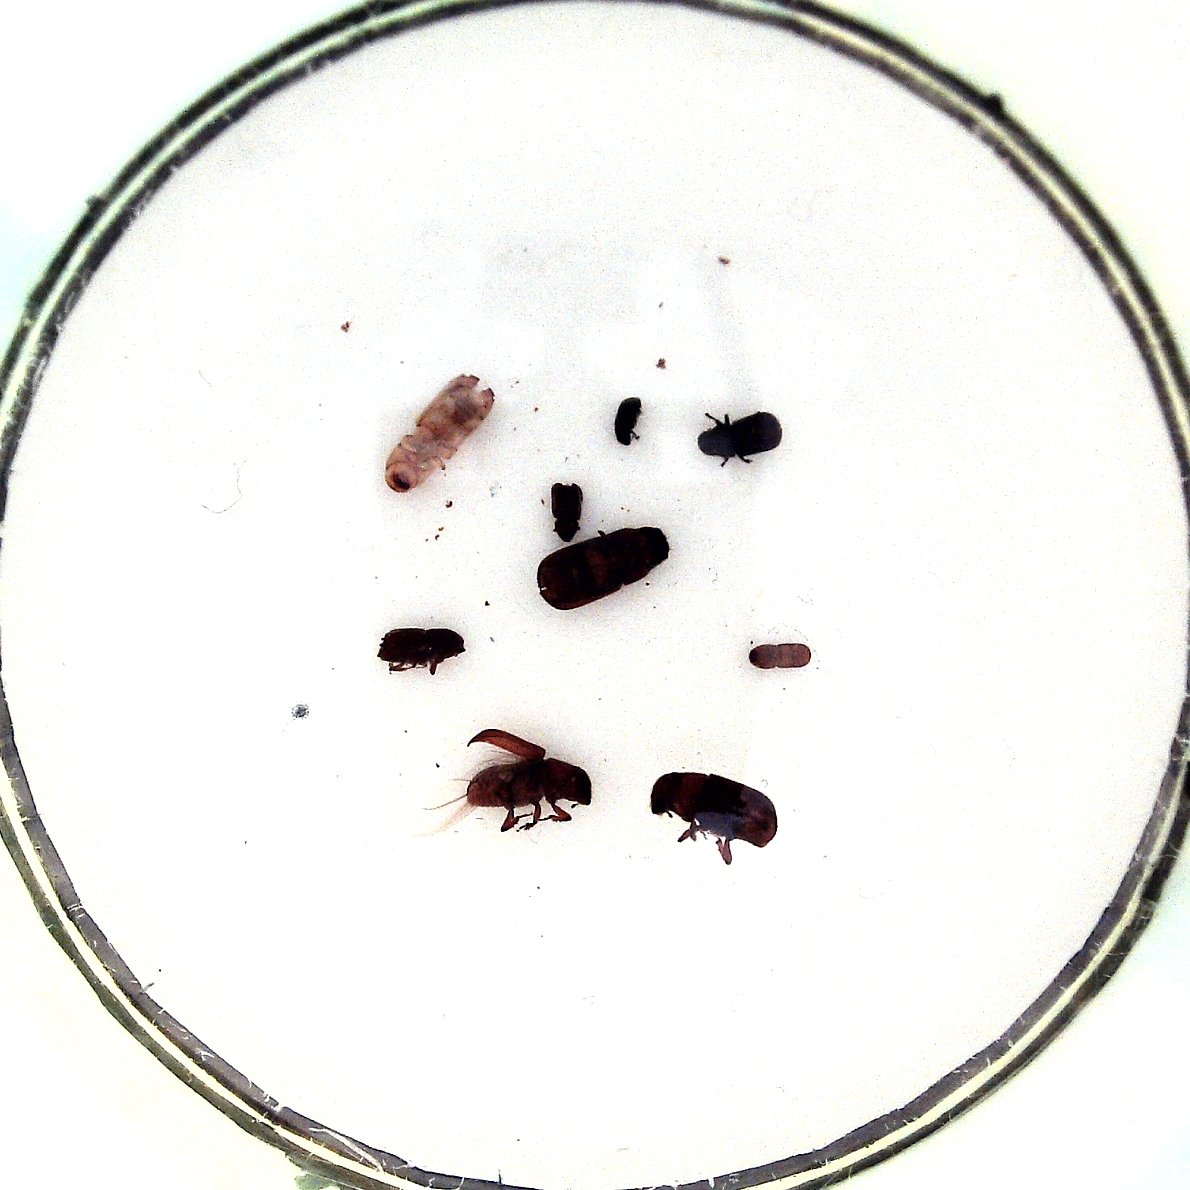Boerner: (380, 371, 498, 500)
Leconte: (420, 726, 596, 839), (645, 767, 779, 871), (533, 525, 673, 612)
Linnaeus: (373, 626, 466, 675)
acuminatus: (749, 642, 811, 676)
armandi: (692, 405, 785, 471)
coleoptera: (547, 481, 588, 542), (610, 394, 646, 450)
